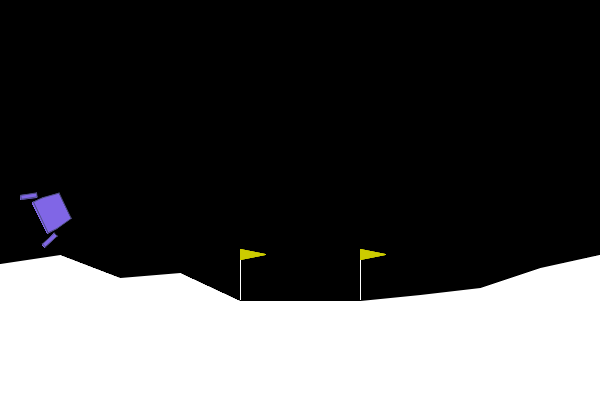lander: (18, 178, 79, 250)
